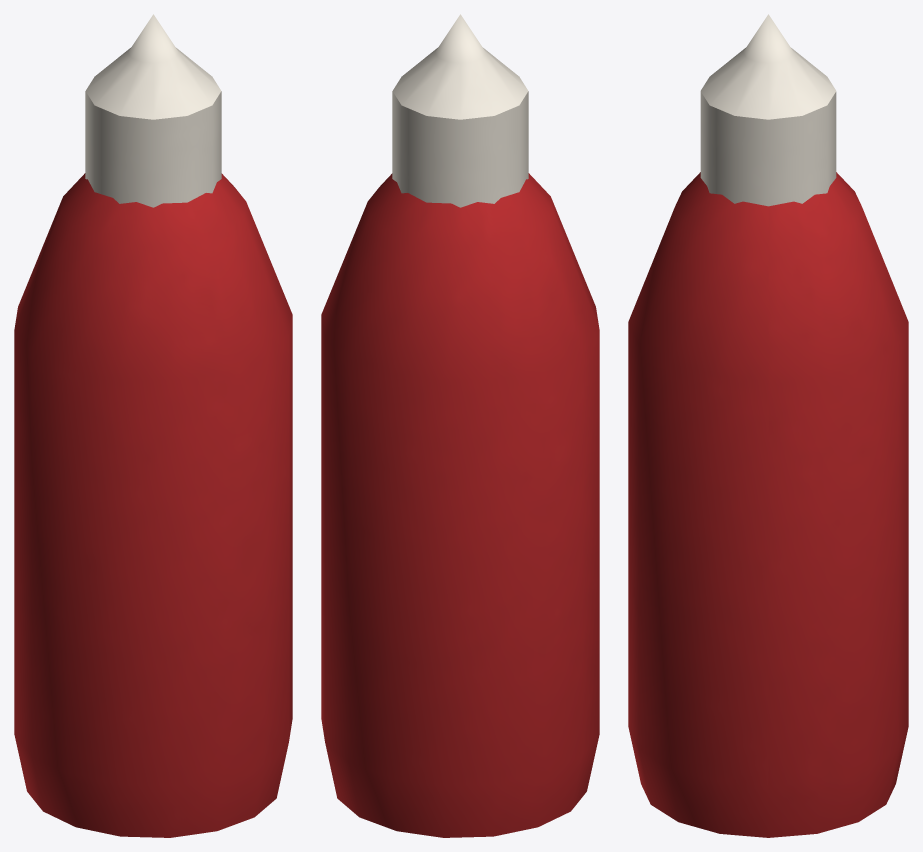
File: SM_Bottle_Ketchup.fbx
3 renders of one model, left to right at view 1: azimuth 30°, elevation 25°; view 2: azimuth 150°, elevation 25°; view 3: azimuth 270°, elevation 25°, orthographic.
Visible parts, largest first — view 1: SM_Bottle_Ketchup; view 2: SM_Bottle_Ketchup; view 3: SM_Bottle_Ketchup.
Boxes of the visible parts, bbox=[...] form: SM_Bottle_Ketchup: bbox=[14, 14, 292, 837]; SM_Bottle_Ketchup: bbox=[321, 14, 599, 837]; SM_Bottle_Ketchup: bbox=[628, 14, 908, 837].
Bounding box in the file's own units: 0.066 × 0.2 × 0.066.
Materials: 2 (2 with a texture image).
